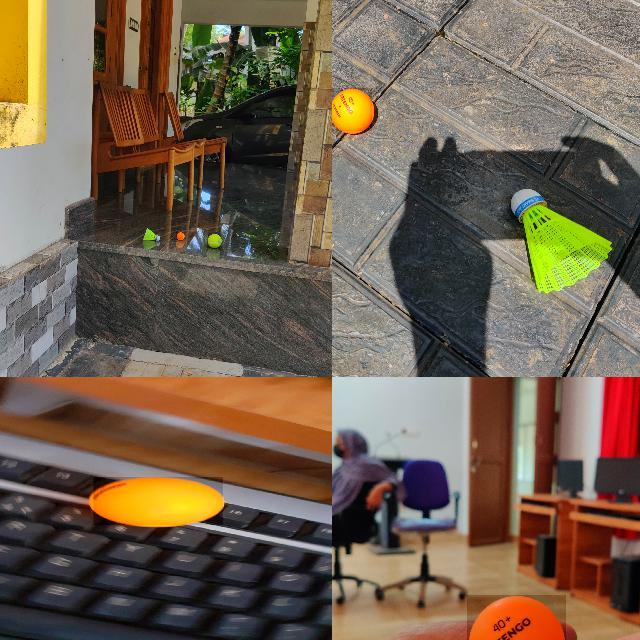ping-pong-ball: (93, 477, 224, 525), (467, 595, 567, 639), (332, 87, 373, 133), (176, 232, 184, 240)
